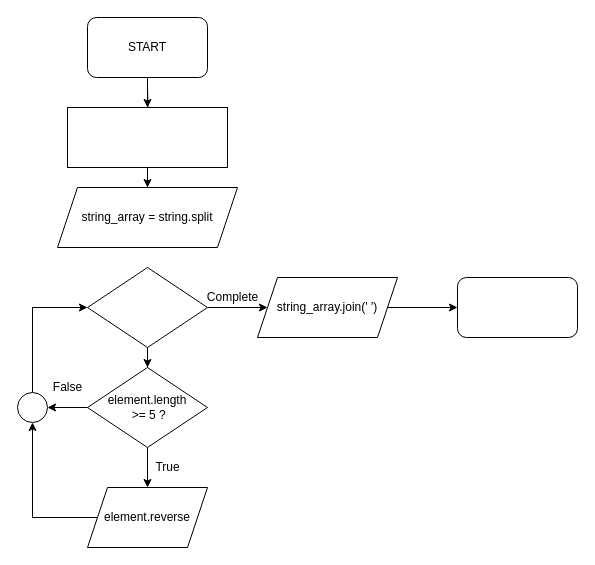
The diagram is 595 pixels wide and 565 high, and some of its shapes have lost their labels. The centre of each missing label's shape, as x and y in pixels:
reverse_words(string): the point at 147,137
STOP: the point at 517,307
string_array.map!: the point at 147,307
